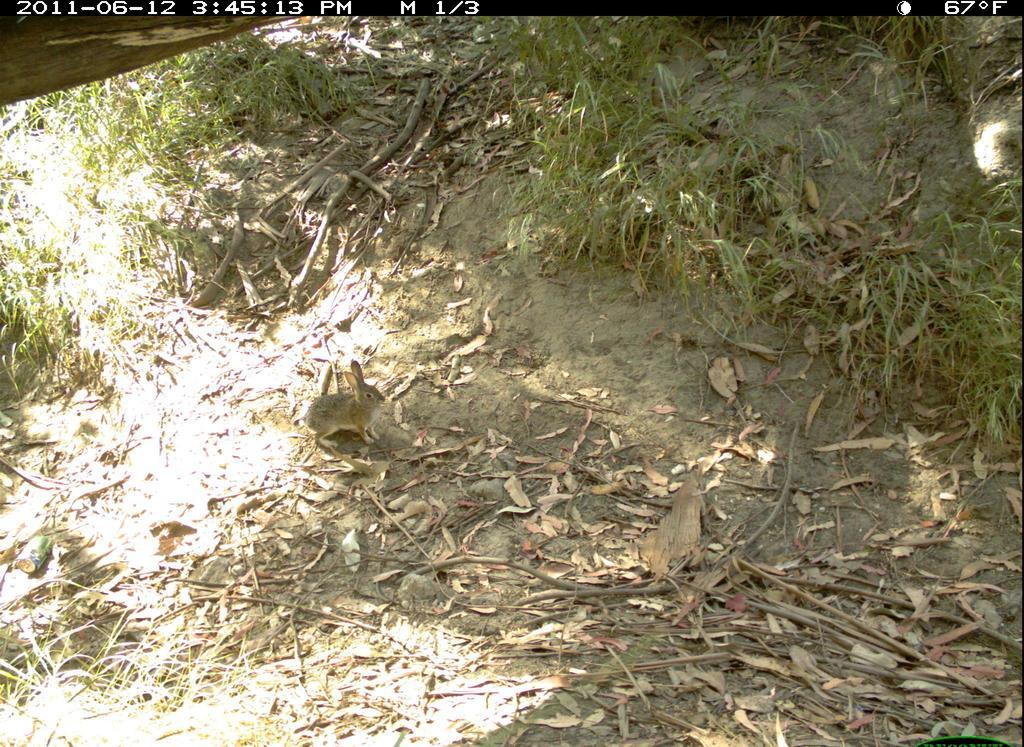rabbit: (299, 359, 405, 454)
